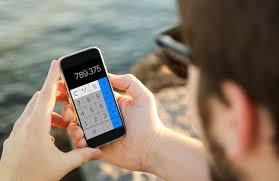Calculator: (67, 61, 126, 140)
